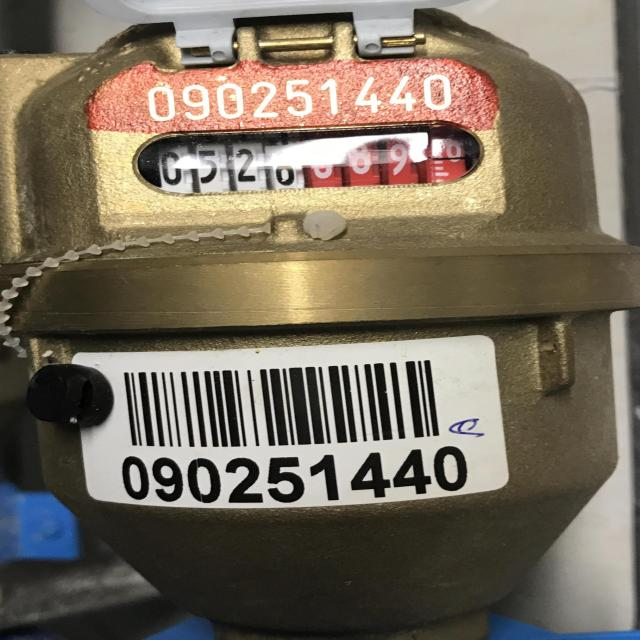gaz_meter: (1, 15, 613, 240)
indication: (142, 118, 470, 198)
